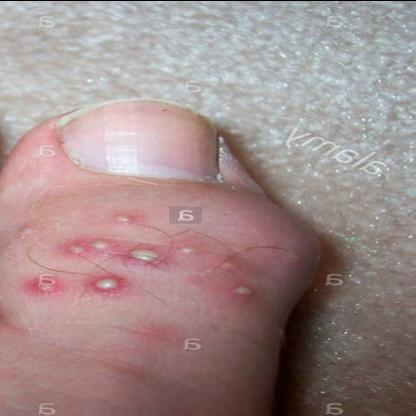Fire ant: (13, 207, 264, 306)
